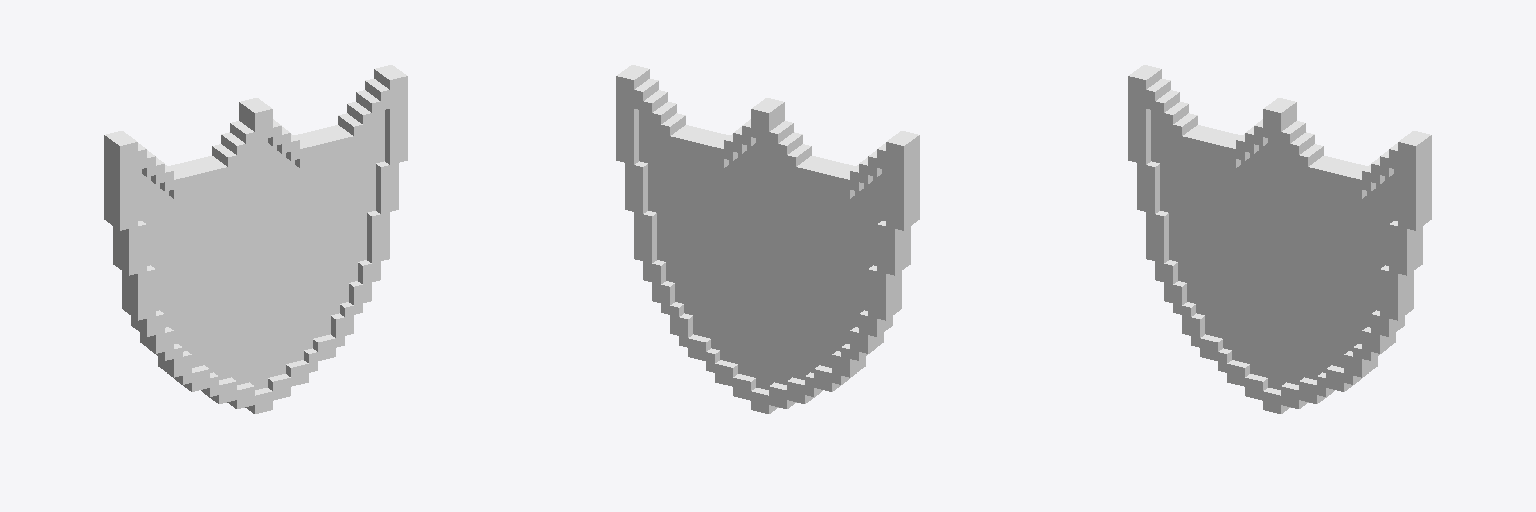
File: powerup.obj
3 views of the same model, side by side, from view 1: azimuth 30°, elevation 25°; view 2: azimuth 150°, elevation 25°; view 3: azimuth 330°, elevation 25° (orthographic).
Parts seen in each view (by area): view 1: object 1; view 2: object 1; view 3: object 1.
Part boxes in pixels (x1,y1,x2,y2): object 1: (104,65,407,413); object 1: (616,65,919,413); object 1: (1128,65,1431,413).
Bounding box in the file's own units: 3.2 × 3.2 × 0.3.